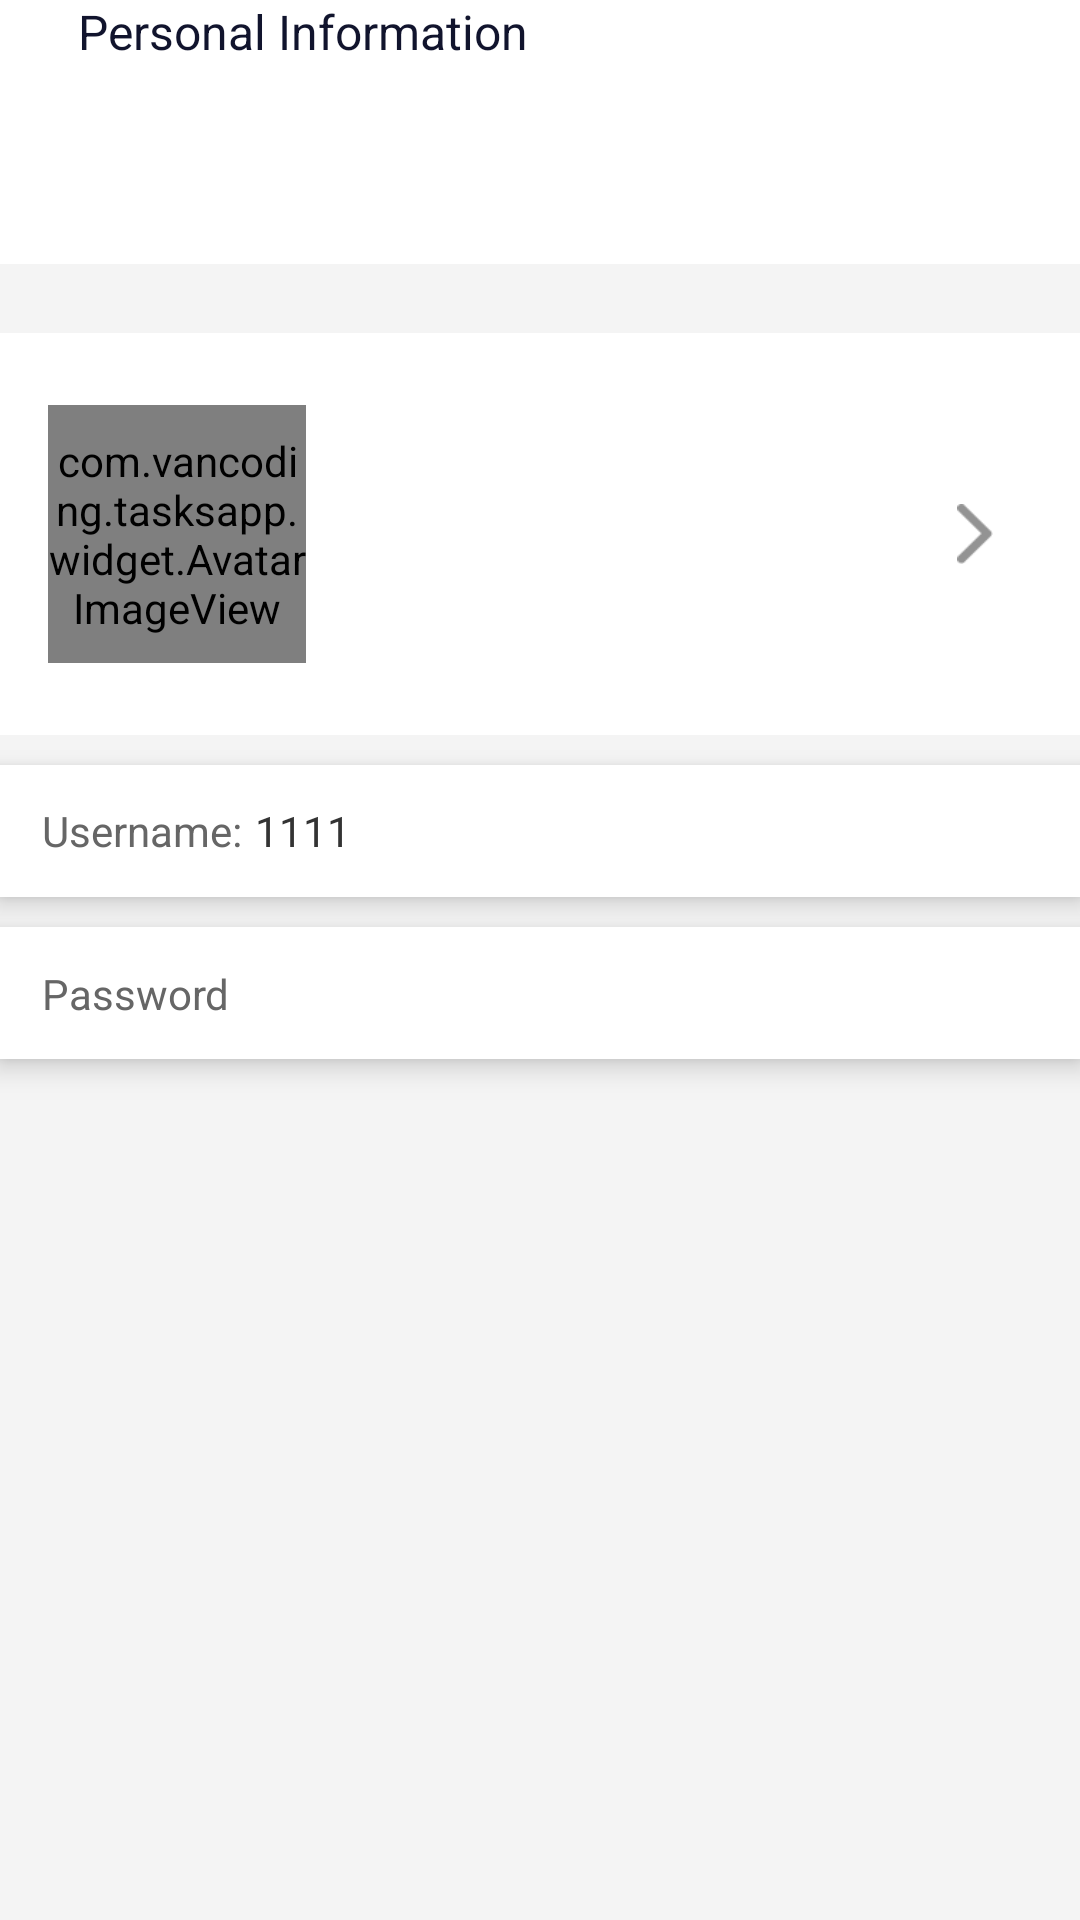

Named icons in this screenshot (1080px x 1920px) and their bounding boxes, (x1, y1, x2, y2):
mine next: (957, 504, 992, 564)
